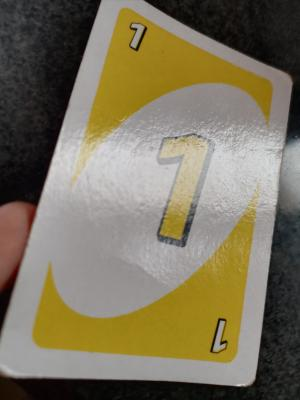num_1: (119, 112, 242, 268), (120, 5, 149, 92)
